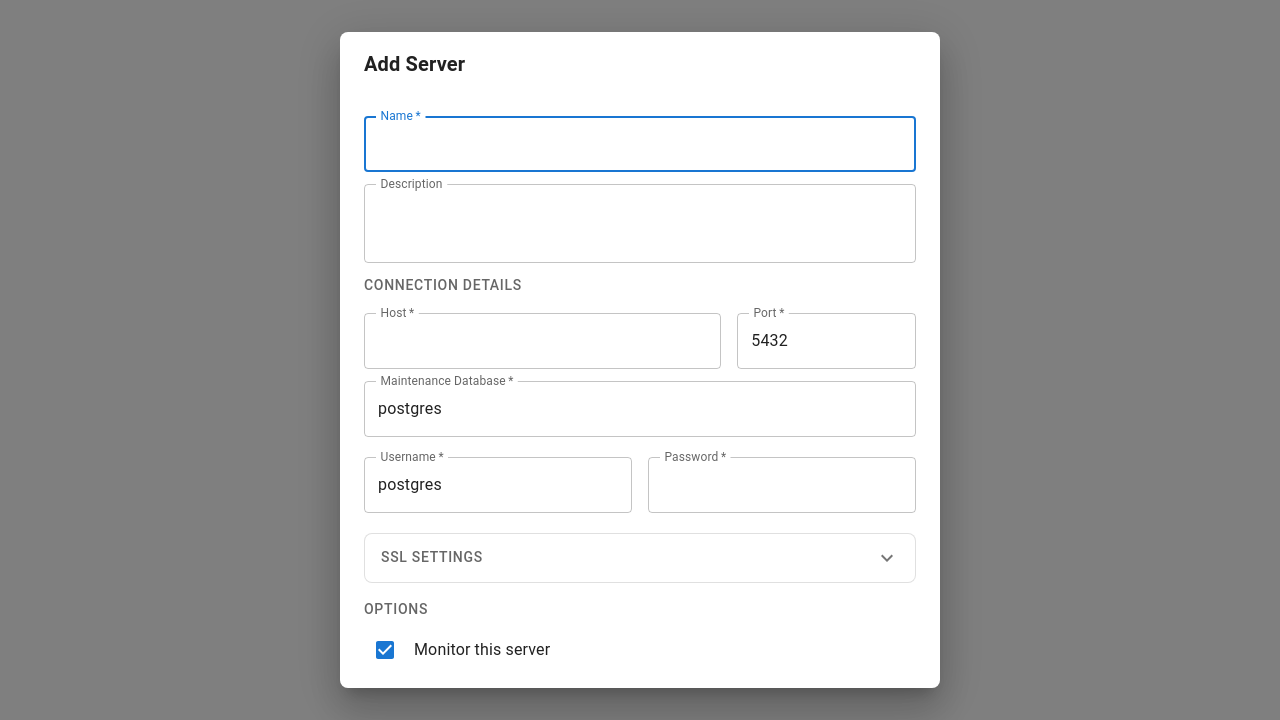
Test: ServerDialog › validation › shows error for invalid port
Type "Test Server" into the field labelled "Name *" at (640,144), box [364,116,916,172]
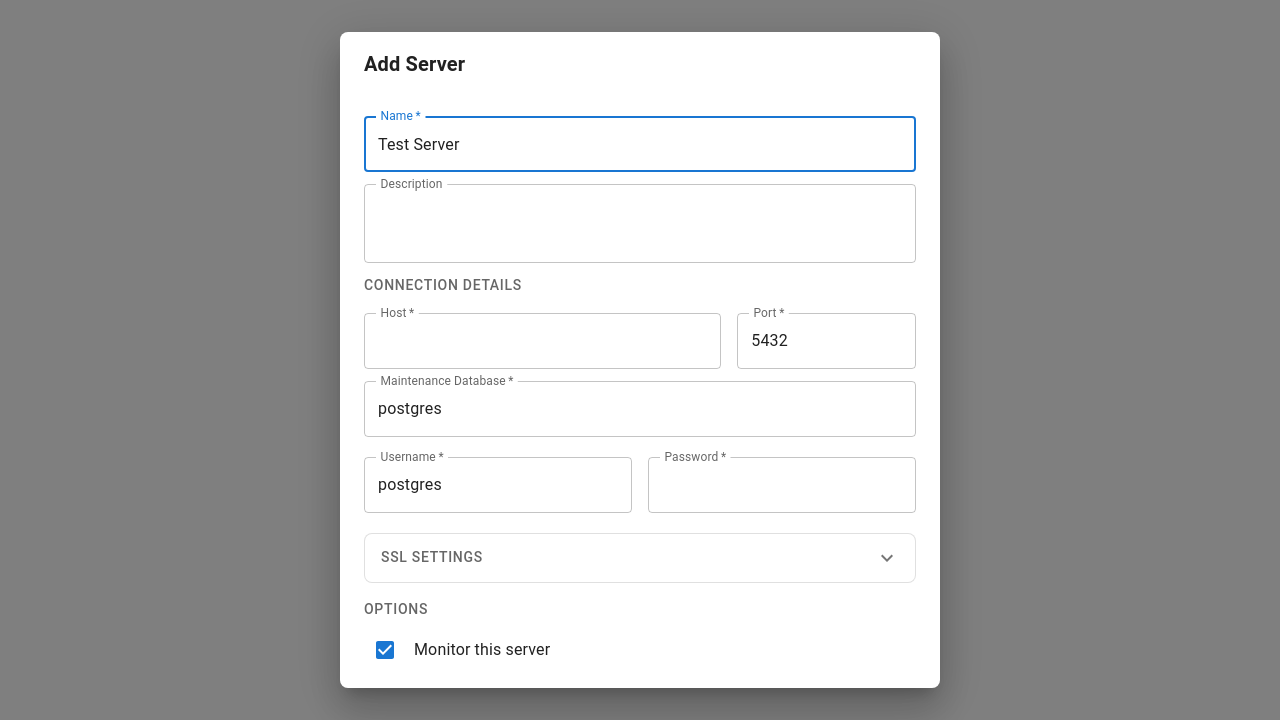
Type "localhost" into the field labelled "Host *" at (543,341), box [364,313,721,369]
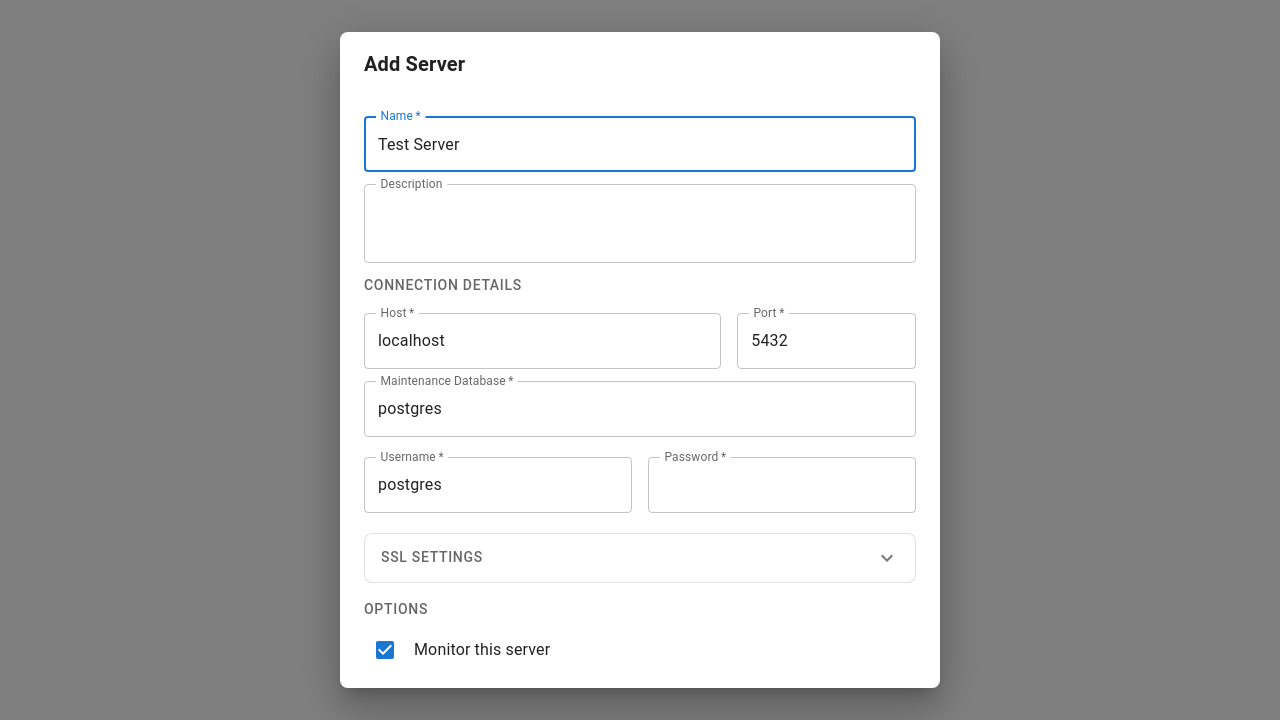
Replace the text in the number field labelled "Port *" with "99999" at (827,341), box [737,313,916,369]
(page scrolled)
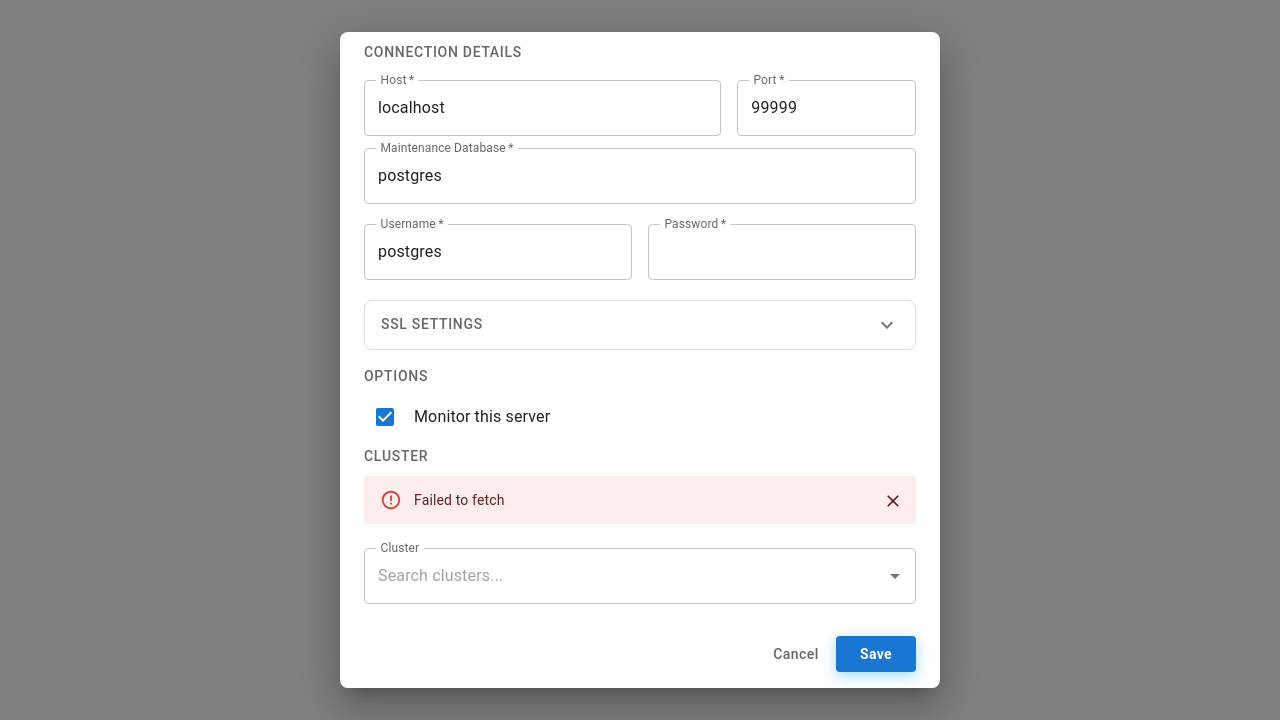
Click the button "Save" at (876,654), box [836,636,916,672]
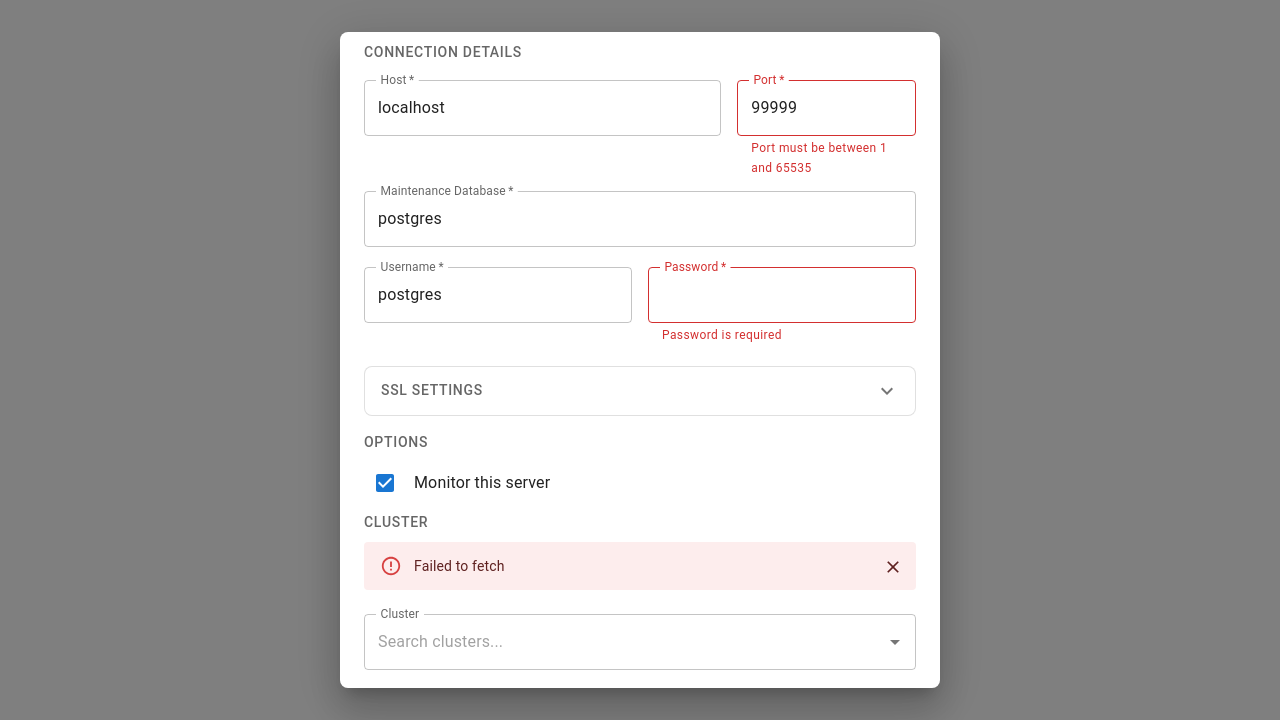
Expected: the text "Port must be between 1 and 65535" is shown, [751,139,902,179]
